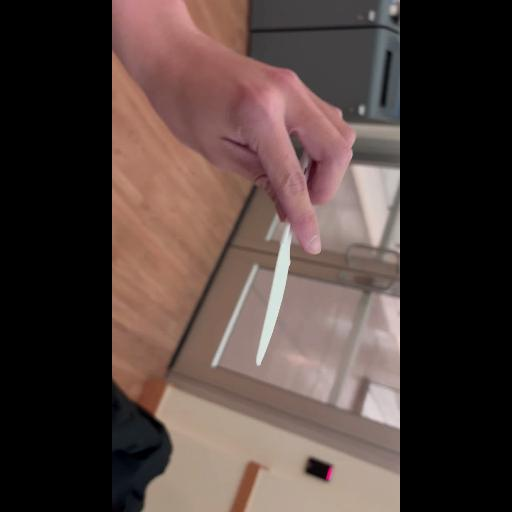utensil: (251, 95, 319, 373)
